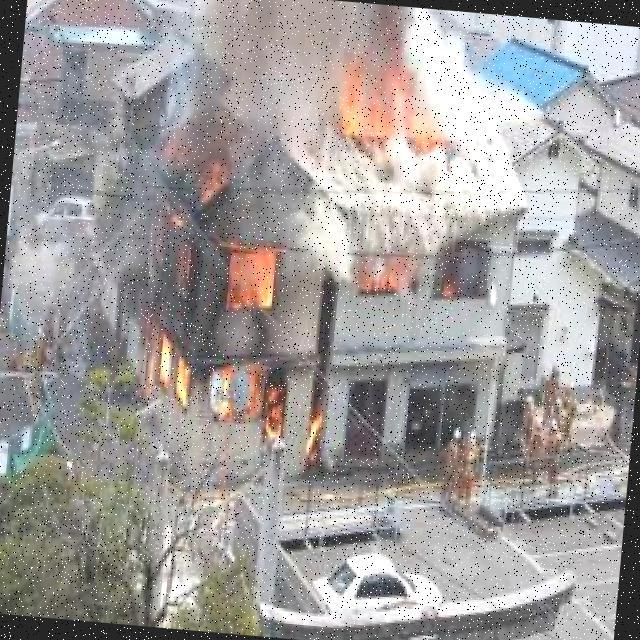Fire: (129, 143, 314, 434), (338, 71, 452, 152)
